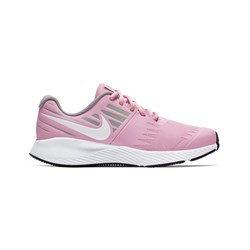nike: (41, 112, 112, 141)
